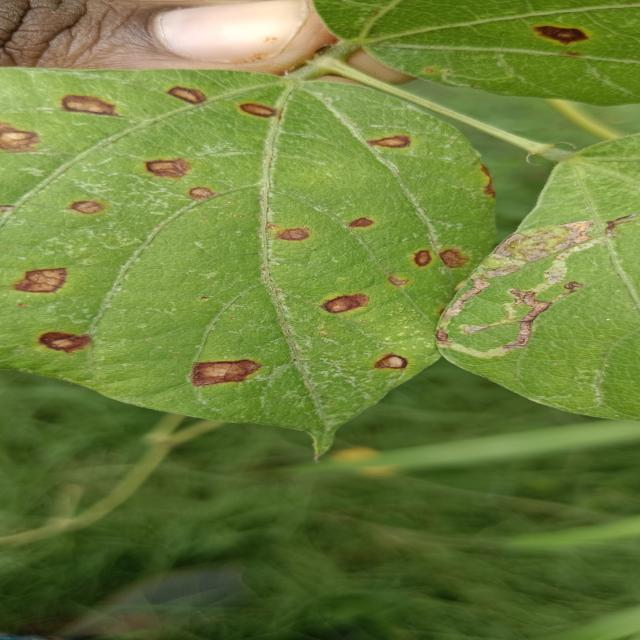Dolicos bean_cercospora leaf spot: (0, 68, 487, 461)
